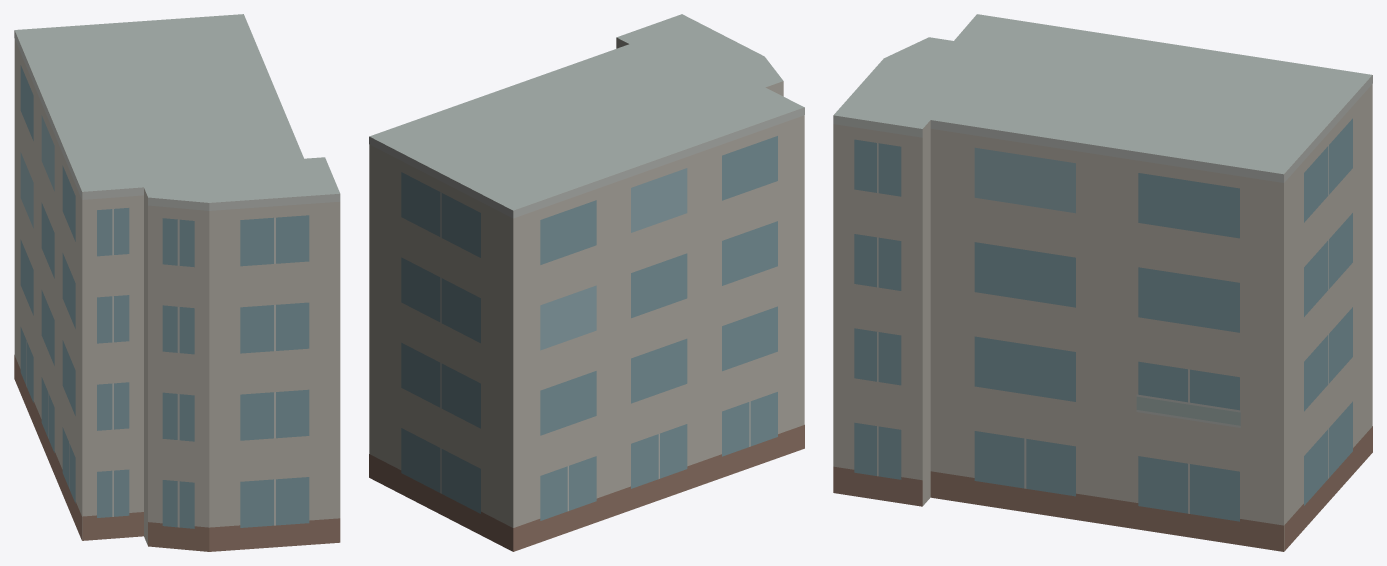
Rendered from survey-upis-32736413.glb.
3 views of the same model, side by side, from view 1: azimuth 30°, elevation 25°; view 2: azimuth 150°, elevation 25°; view 3: azimuth 270°, elevation 25° (orthographic). The views are drawn at different scales.
Visible parts, largest first — view 1: survey-upis-32736413.tmp; view 2: survey-upis-32736413.tmp; view 3: survey-upis-32736413.tmp.
Boxes of the visible parts, bbox=[...] form: survey-upis-32736413.tmp: bbox=[14, 14, 340, 551]; survey-upis-32736413.tmp: bbox=[369, 14, 804, 551]; survey-upis-32736413.tmp: bbox=[833, 14, 1372, 551].
Bounding box in the file's own units: 9.66 × 10.6 × 13.73.
